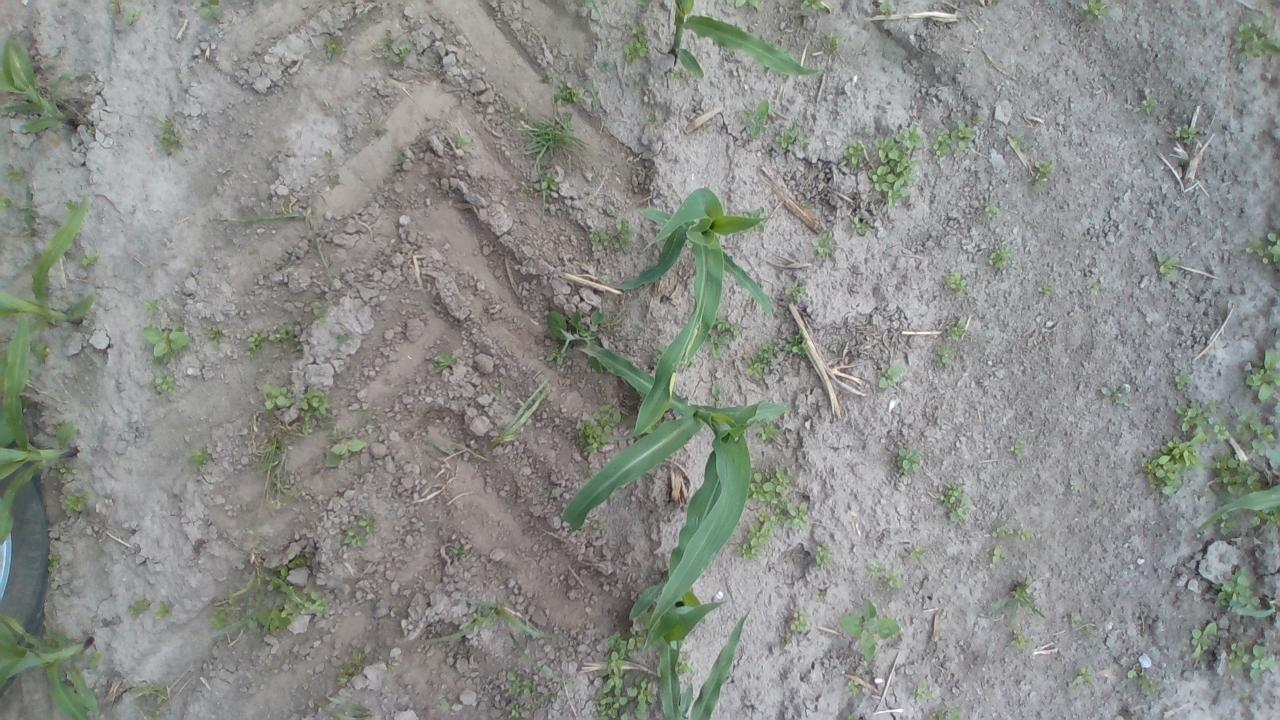Maize: (562, 334, 789, 646), (594, 174, 778, 441), (0, 191, 108, 448), (0, 305, 95, 560), (629, 596, 760, 720), (654, 0, 829, 91), (1, 617, 105, 720), (0, 31, 91, 139), (1197, 478, 1280, 536)
Weeds: (1138, 400, 1280, 538), (423, 379, 552, 470), (205, 558, 328, 647), (208, 198, 336, 273), (738, 461, 821, 564), (419, 592, 562, 650), (595, 629, 659, 720), (1184, 622, 1275, 686), (510, 102, 594, 170), (869, 120, 926, 217), (837, 595, 905, 662), (254, 429, 306, 516), (985, 578, 1045, 653), (544, 306, 608, 366), (1221, 7, 1280, 68), (500, 669, 567, 720), (575, 395, 626, 460), (1212, 570, 1278, 619), (132, 318, 198, 366), (0, 162, 40, 226), (115, 677, 174, 720), (244, 316, 298, 360), (1240, 348, 1280, 403), (587, 216, 639, 258), (924, 120, 981, 158), (934, 478, 976, 529), (1233, 226, 1280, 271), (330, 647, 374, 694), (369, 30, 418, 69), (148, 113, 188, 156), (548, 78, 592, 117), (744, 340, 779, 387), (776, 605, 811, 652), (739, 96, 774, 140), (299, 385, 329, 436), (865, 560, 908, 595), (338, 512, 377, 550), (709, 318, 746, 358), (1122, 664, 1162, 700), (261, 378, 296, 419), (424, 346, 462, 383), (64, 483, 98, 524), (1097, 382, 1134, 419), (871, 358, 908, 394), (320, 437, 367, 464), (892, 446, 926, 481), (530, 167, 566, 200), (982, 240, 1017, 273), (147, 370, 180, 405), (304, 300, 342, 330), (316, 700, 372, 720), (622, 18, 650, 58), (775, 330, 812, 360), (774, 114, 801, 154), (1133, 88, 1163, 122), (104, 0, 140, 28), (190, 1, 230, 26), (326, 328, 362, 355), (847, 211, 878, 242), (204, 312, 228, 352), (840, 140, 870, 172), (320, 146, 340, 194), (755, 420, 791, 446), (815, 30, 847, 59), (988, 524, 1039, 542), (184, 445, 215, 474), (318, 33, 350, 61), (1028, 159, 1053, 194), (1066, 610, 1096, 639), (1081, 0, 1113, 27), (1069, 666, 1102, 692), (781, 278, 816, 302), (579, 78, 602, 112), (1174, 122, 1204, 148), (134, 292, 164, 318), (122, 595, 150, 622), (147, 595, 173, 624), (808, 229, 834, 258), (1156, 254, 1181, 284), (1081, 272, 1103, 305), (50, 461, 79, 486), (930, 701, 966, 720), (985, 544, 1011, 570), (978, 196, 1004, 222), (941, 322, 970, 345), (722, 0, 767, 14), (908, 678, 934, 702), (944, 270, 970, 294), (813, 543, 836, 570), (1004, 437, 1031, 460), (869, 0, 902, 18), (364, 120, 391, 142), (906, 543, 931, 566), (704, 380, 727, 404), (932, 345, 956, 368), (1003, 127, 1025, 152), (83, 651, 110, 670), (800, 0, 836, 14), (78, 246, 98, 271), (1035, 280, 1061, 299), (1174, 365, 1192, 392), (378, 656, 403, 675), (540, 480, 562, 501), (446, 538, 465, 562), (676, 656, 694, 681), (448, 126, 468, 148), (1084, 492, 1105, 512), (1064, 473, 1084, 494), (591, 518, 610, 540), (44, 550, 60, 576), (663, 65, 688, 80), (392, 149, 416, 164), (743, 207, 767, 221), (814, 586, 830, 607), (640, 109, 659, 126), (434, 698, 457, 712), (845, 678, 861, 697)
